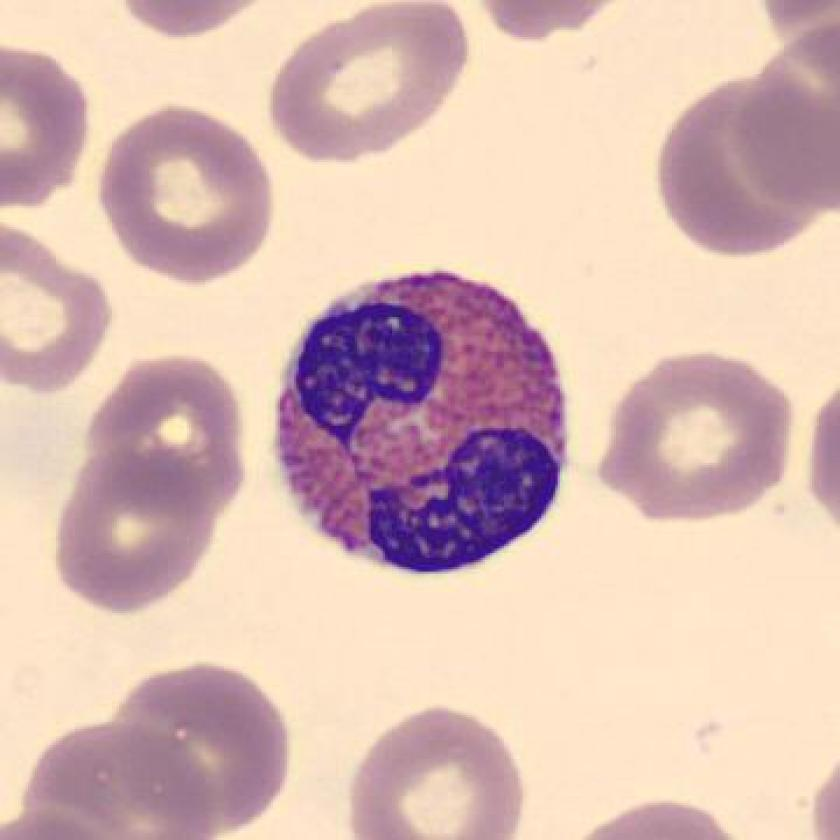eosinophil: (265, 258, 587, 593)
